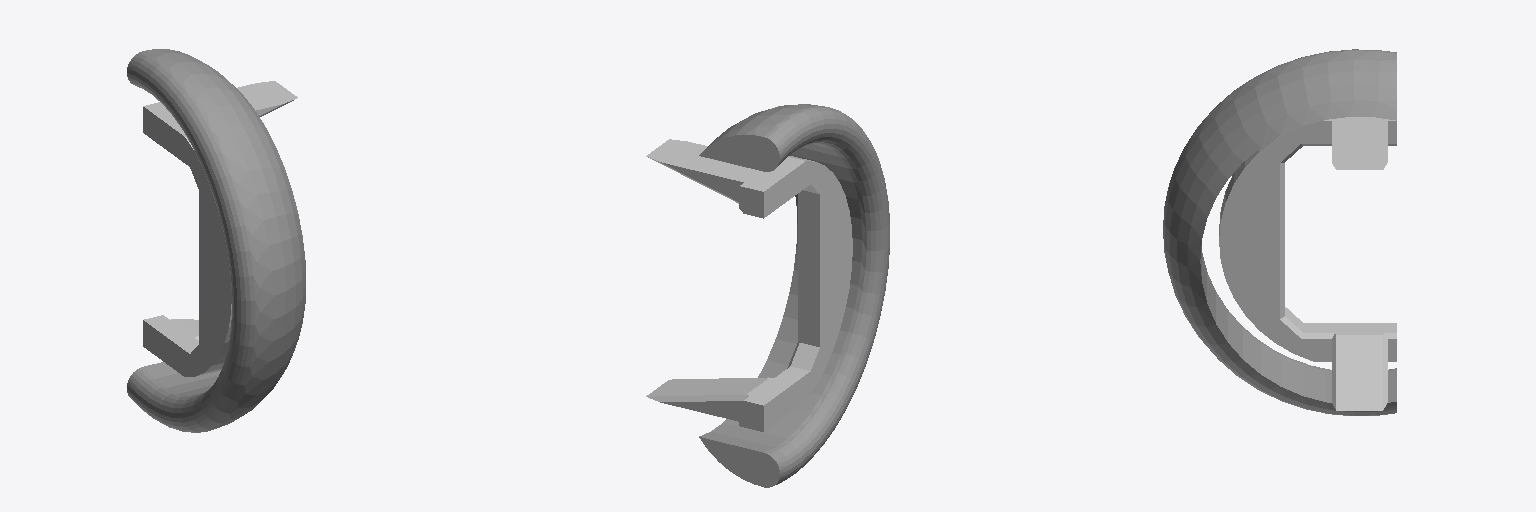
The model's file is Connector.obj.
The picture shows the model from 3 angles: view 1: azimuth 30°, elevation 25°; view 2: azimuth 150°, elevation 25°; view 3: azimuth 270°, elevation 25°; orthographic projection.
Visible parts, largest first — view 1: Connector; view 2: Connector; view 3: Connector.
Boxes of the visible parts, x1,y1,x2,y2 form: Connector: [127, 49, 305, 432]; Connector: [646, 104, 889, 487]; Connector: [1163, 49, 1396, 415].
Bounding box in the file's own units: 8.7 × 20.97 × 12.5.